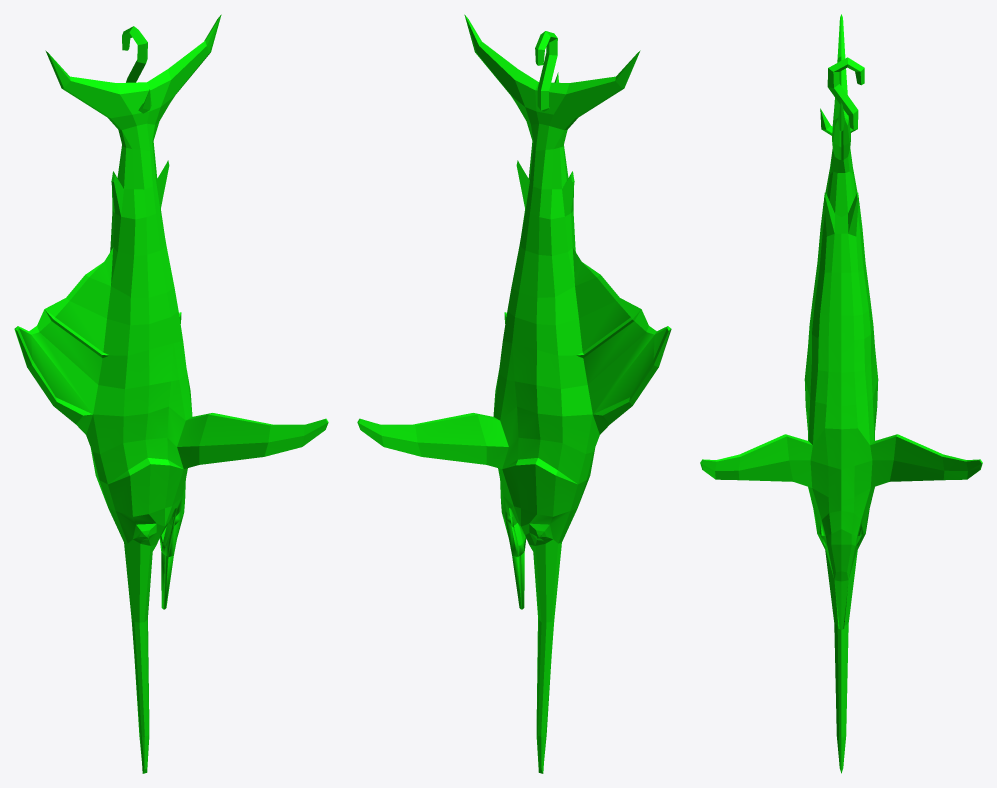
The model's file is SM_Swordfish_Hanging.fbx.
The picture shows the model from 3 angles, left to right: view 1: azimuth 30°, elevation 25°; view 2: azimuth 150°, elevation 25°; view 3: azimuth 270°, elevation 25°; orthographic projection. The views are drawn at different scales.
Parts seen in each view (by area): view 1: swordfish-hanging; view 2: swordfish-hanging; view 3: swordfish-hanging.
Boxes of the visible parts, left/top/right/bottom form: swordfish-hanging: left=14, top=14, right=328, bottom=773; swordfish-hanging: left=357, top=14, right=671, bottom=773; swordfish-hanging: left=700, top=14, right=982, bottom=773.
Bounding box in the file's own units: 0.9849 × 2.93 × 1.06.
